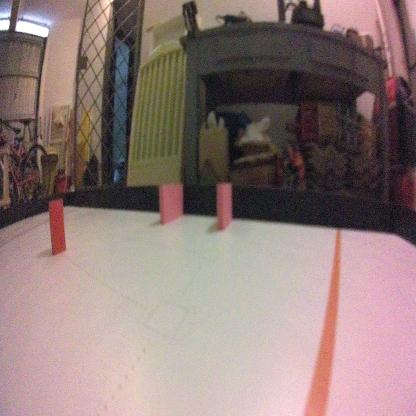magenta: (160, 184, 185, 224), (214, 181, 233, 232)
red: (48, 195, 65, 252)
